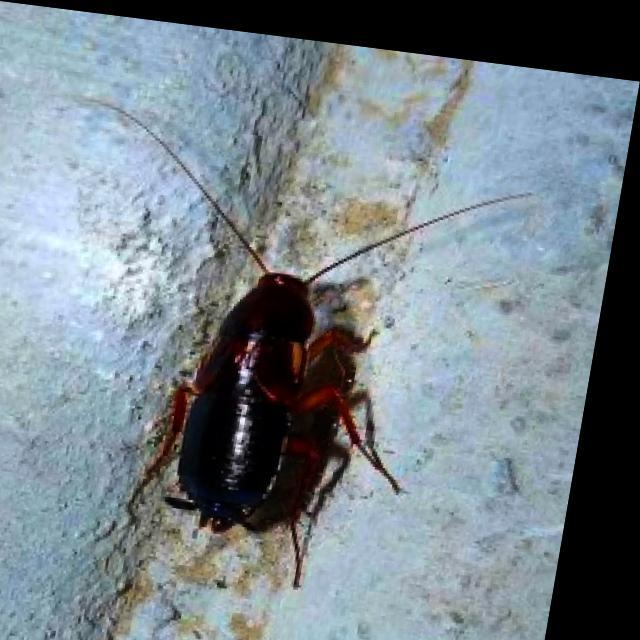cockroach: (48, 89, 539, 591)
